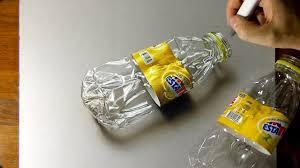BIODEGRADABLE: (74, 27, 242, 137), (184, 48, 300, 168)
